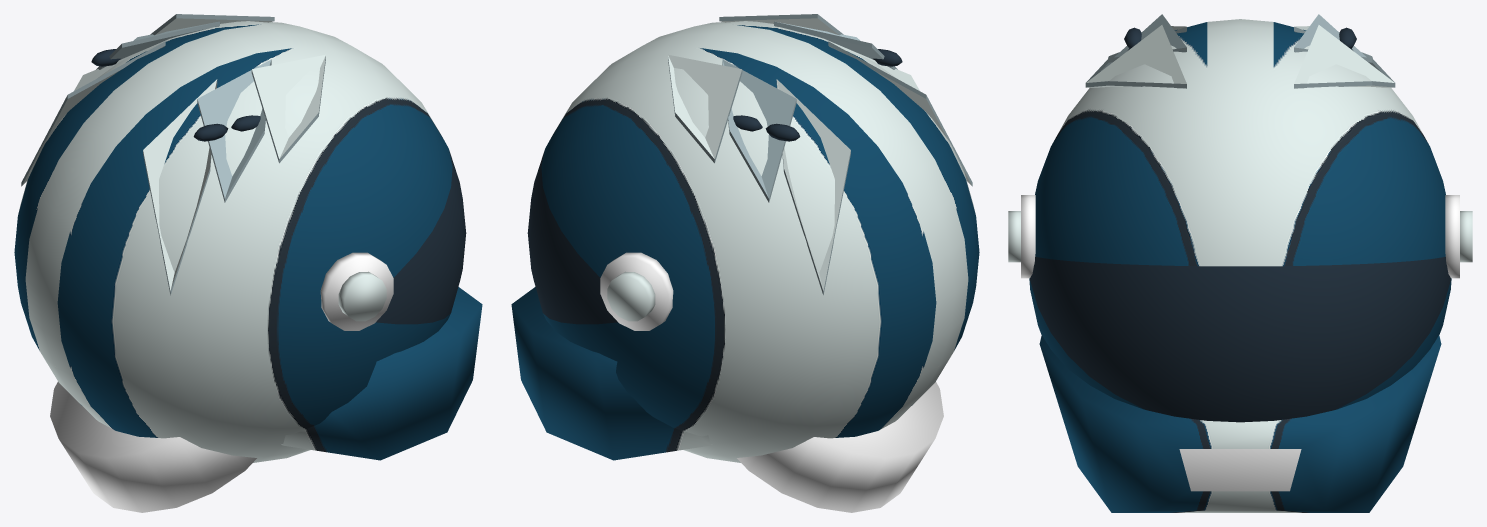
Rendered from Helmet_22_SR_外海・二重線.glb.
3 renders of one model, left to right at view 1: azimuth 30°, elevation 25°; view 2: azimuth 150°, elevation 25°; view 3: azimuth 270°, elevation 25°, orthographic. The views are drawn at different scales.
Parts seen in each view (by area): view 1: Helmet_22_SR, Visor; view 2: Helmet_22_SR, Visor; view 3: Helmet_22_SR, Visor.
Part boxes in pixels (left/top/right/bottom): Helmet_22_SR: left=14, top=14, right=482, bottom=512; Visor: left=91, top=49, right=466, bottom=324; Helmet_22_SR: left=511, top=14, right=979, bottom=512; Visor: left=527, top=49, right=902, bottom=324; Helmet_22_SR: left=1008, top=14, right=1472, bottom=512; Visor: left=1030, top=27, right=1450, bottom=422.
Size of the model in its own units: 0.301 by 0.3077 by 0.289.
4 materials, 4 textured.
